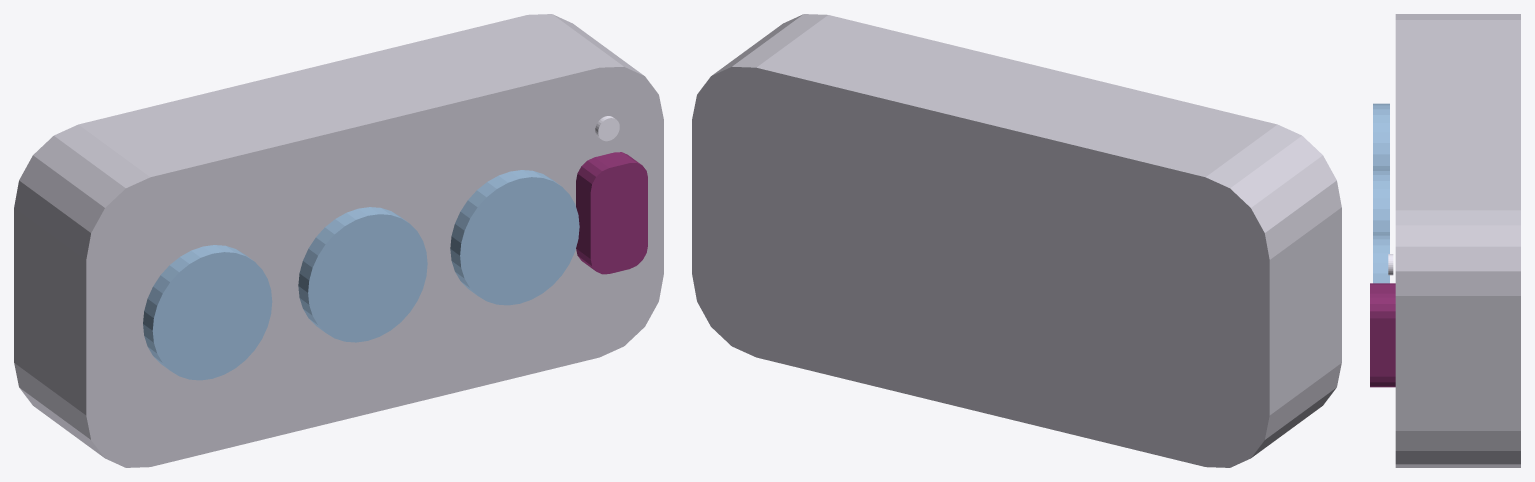
The model's file is powerstrip.glb.
3 views of the same model, side by side, from view 1: azimuth 30°, elevation 25°; view 2: azimuth 150°, elevation 25°; view 3: azimuth 270°, elevation 25° (orthographic). The views are drawn at different scales.
Parts seen in each view (by area): view 1: case, socket-0.52, socket-0.06, socket0.39, switch; view 2: case; view 3: case, switch, socket-0.52, socket-0.06, socket0.39.
Boxes of the visible parts, <box> form: case: <box>14,14,663,467</box>; socket-0.52: <box>143,245,272,380</box>; socket-0.06: <box>298,207,427,342</box>; socket0.39: <box>450,170,579,305</box>; switch: <box>576,152,647,274</box>; case: <box>692,14,1341,467</box>; case: <box>1395,14,1520,467</box>; switch: <box>1370,283,1395,387</box>; socket-0.52: <box>1373,103,1389,169</box>; socket-0.06: <box>1373,169,1389,233</box>; socket0.39: <box>1373,234,1389,283</box>.
Bounding box in the file's own units: 1.71 × 0.82 × 0.4455.
